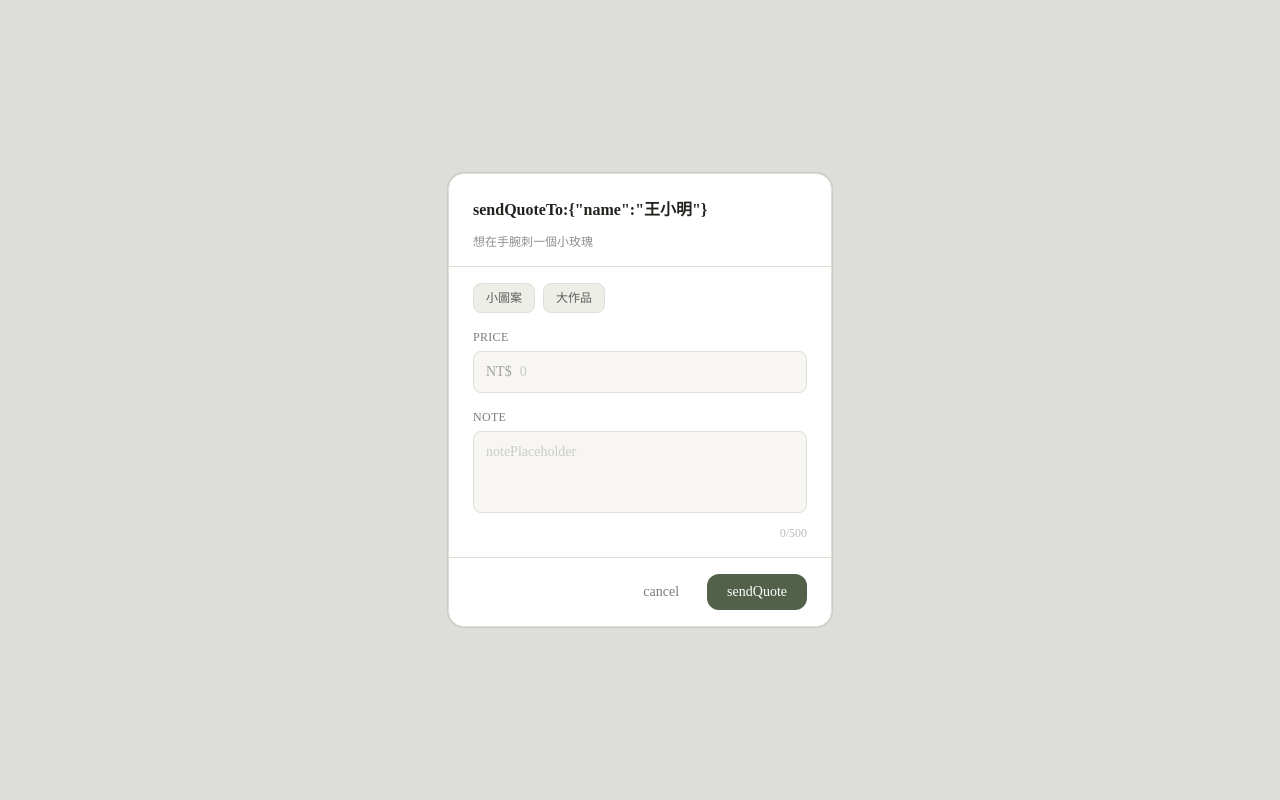
QuoteFormModal › fills price and note from template when template button is clicked
What coordinates should you click on to do the following:
click the button "小圖案"
I would click on:
 (504, 298)
Its box is [473,283,535,313].
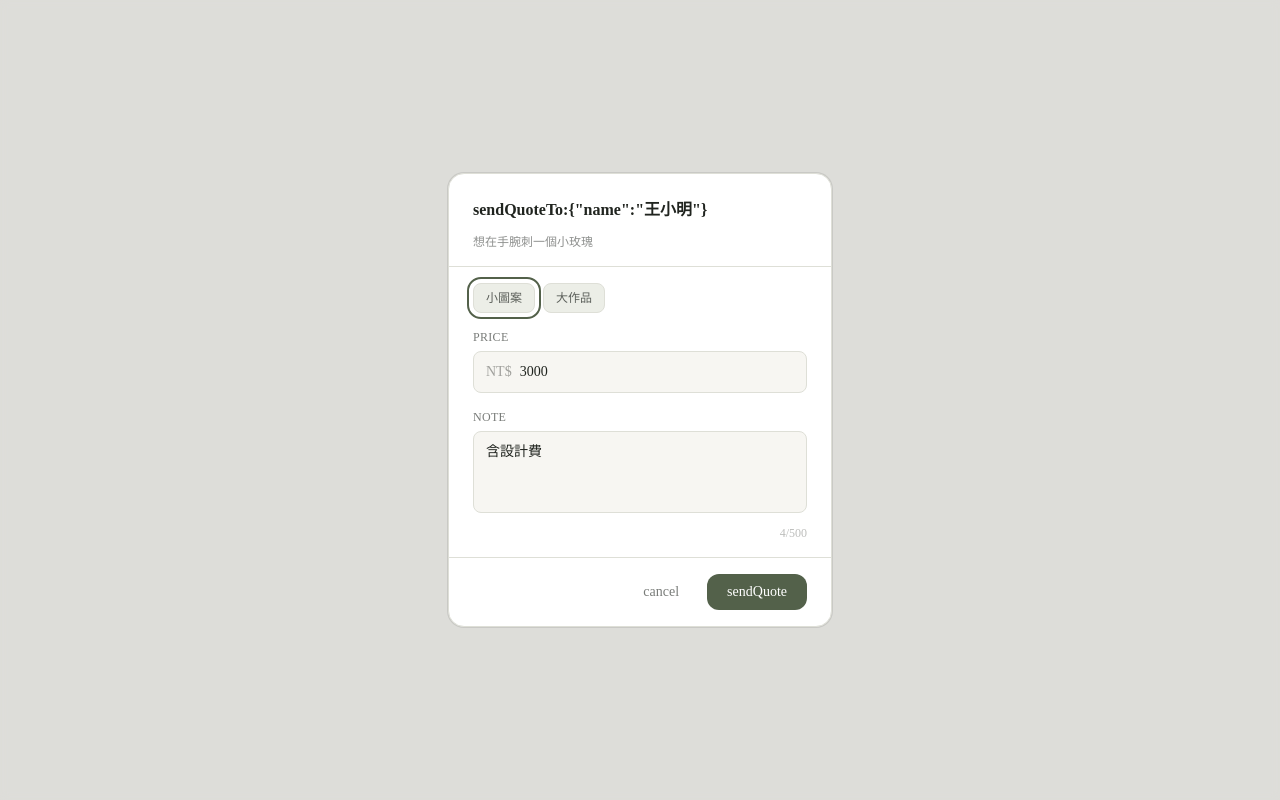
Now the number field labelled "price" holds "3000", box [512,352,806,392]
Now the text box labelled "note" holds "含設計費", box [473,431,807,513]
